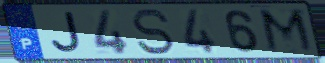4: (91, 8, 130, 56), (181, 8, 218, 56)
6: (223, 9, 261, 54)
J: (50, 11, 83, 55)
M: (256, 7, 319, 55)
S: (129, 8, 177, 57)
